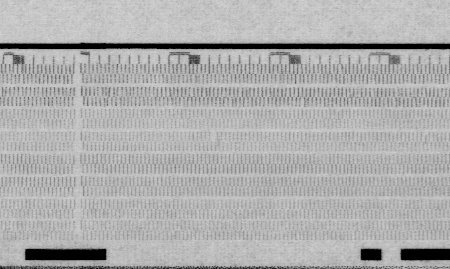Broken hole: (207, 131, 219, 144)
Oblique printing: (420, 130, 432, 145), (298, 97, 310, 109)
